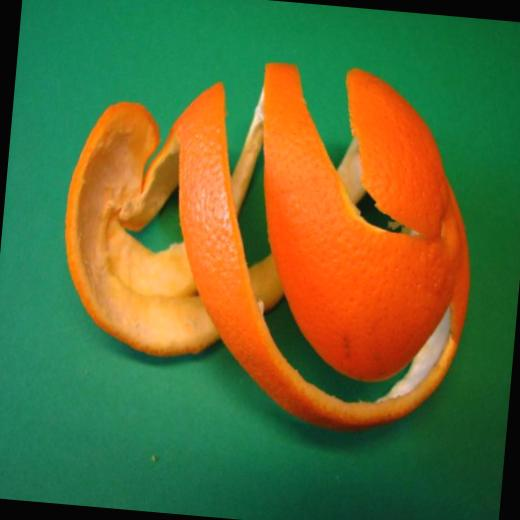Grape: (54, 43, 488, 438)
